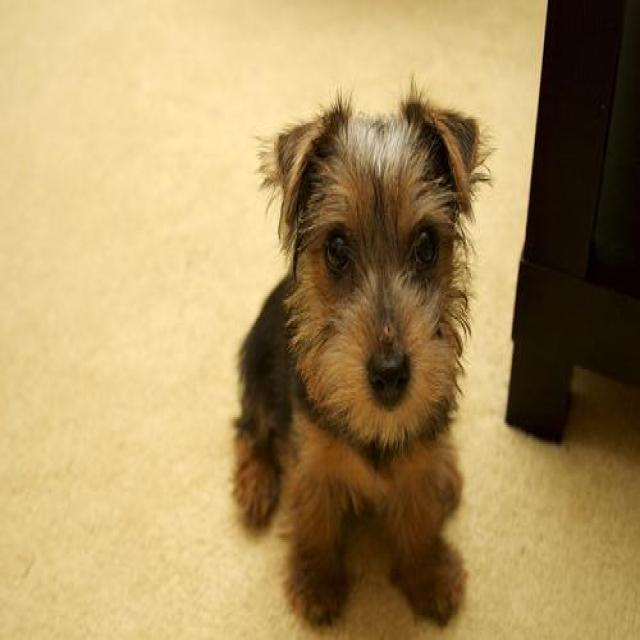dogs: (210, 68, 488, 628)
